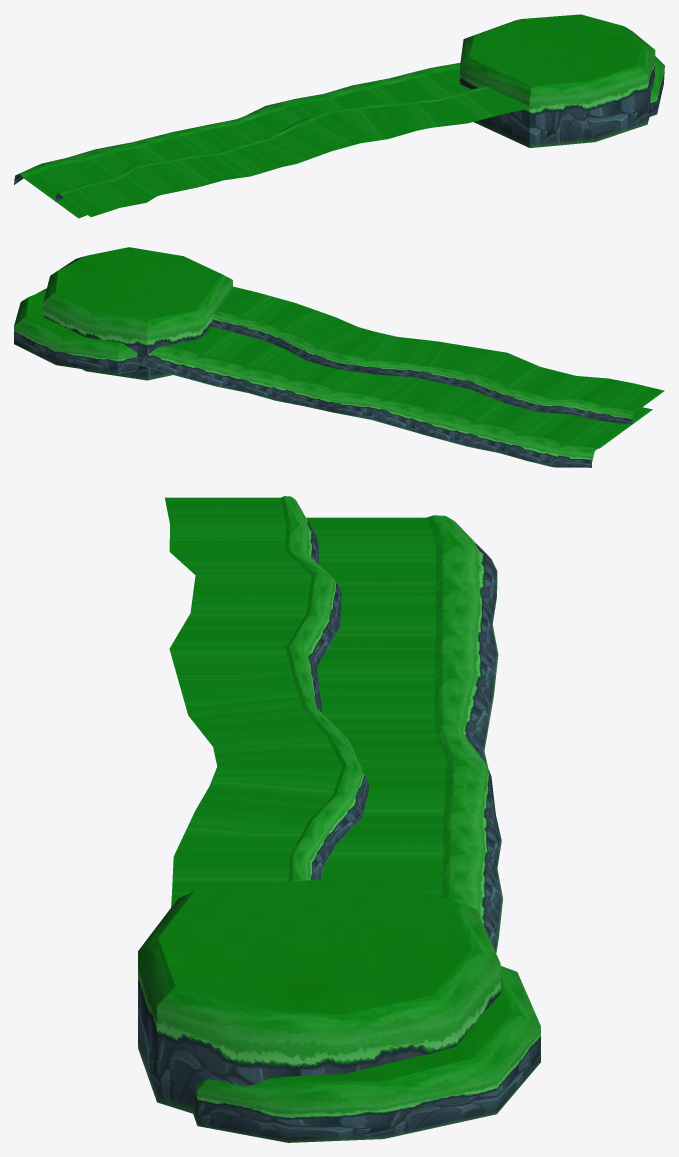
Rendered from rc_01_bud_06.FBX.
The picture shows the model from 3 angles, top to bottom: view 1: azimuth 30°, elevation 25°; view 2: azimuth 150°, elevation 25°; view 3: azimuth 270°, elevation 25°; orthographic projection. The views are drawn at different scales.
Visible parts, largest first — view 1: Box008; view 2: Box008; view 3: Box008.
Boxes of the visible parts, bbox=[...] form: Box008: bbox=[14, 14, 664, 218]; Box008: bbox=[14, 247, 664, 467]; Box008: bbox=[138, 496, 540, 1142].
Size of the model in its own units: 24415 by 7215 by 2283.
